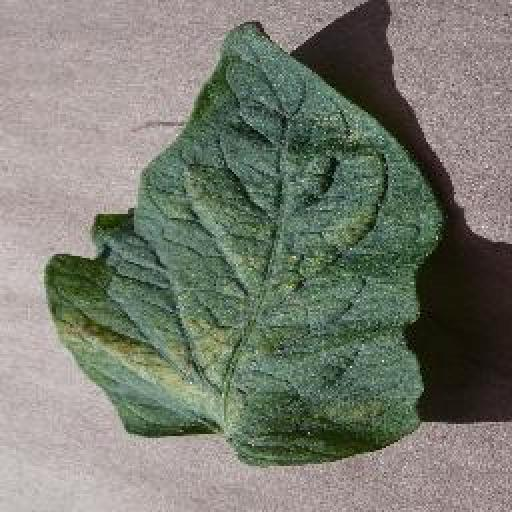disease_tomato: (45, 20, 444, 468)
